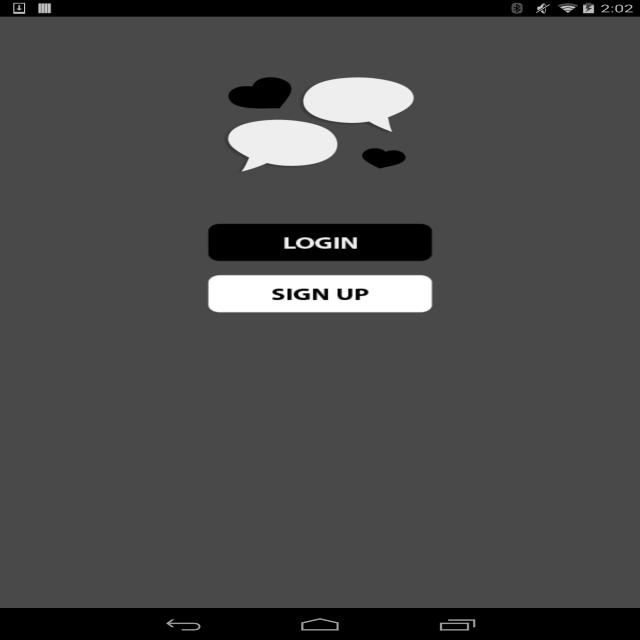Button: (195, 219, 432, 257), (210, 274, 437, 311)
ImageView: (226, 72, 434, 186)
